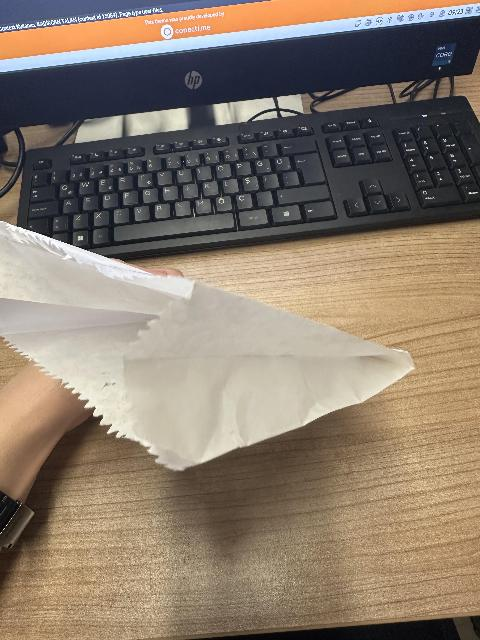Kagit: (0, 206, 419, 467)
